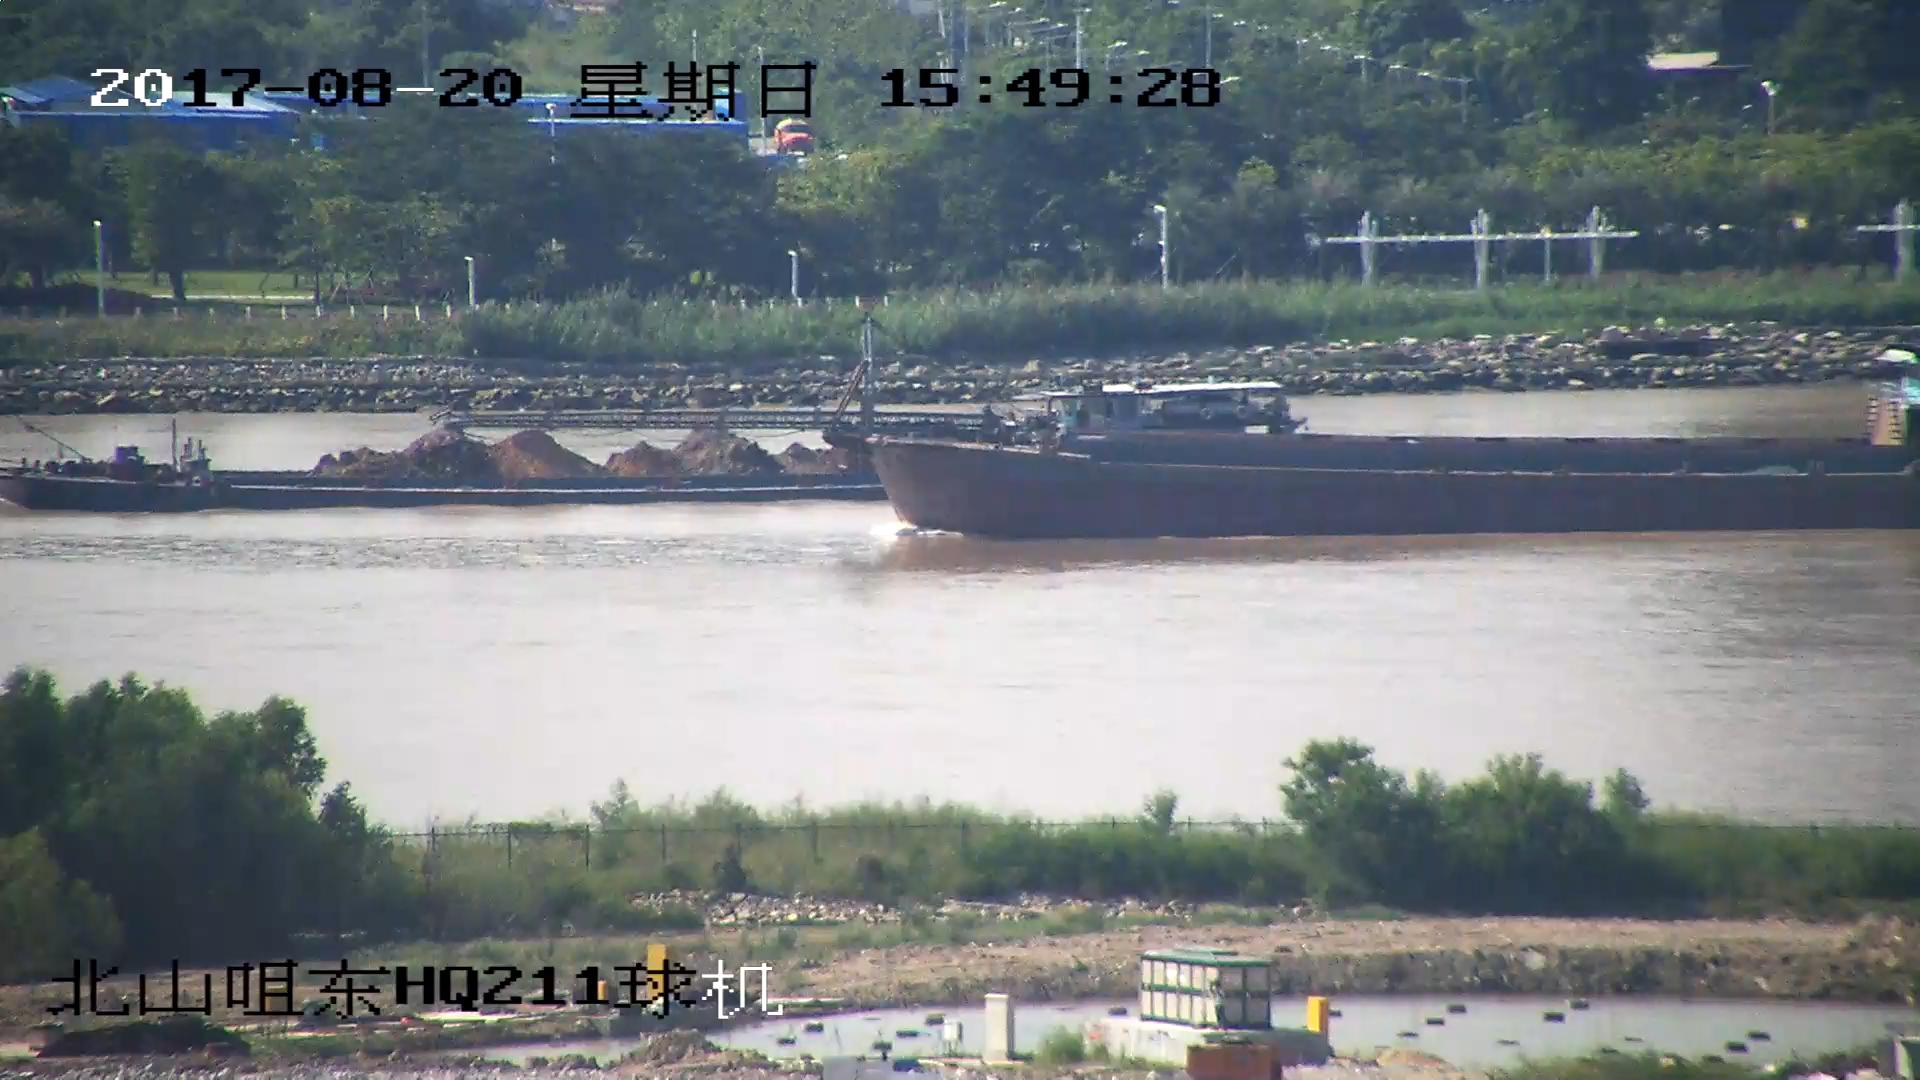bulk cargo carrier: (455, 329, 1920, 533)
ore carrier: (1, 374, 1299, 520)
